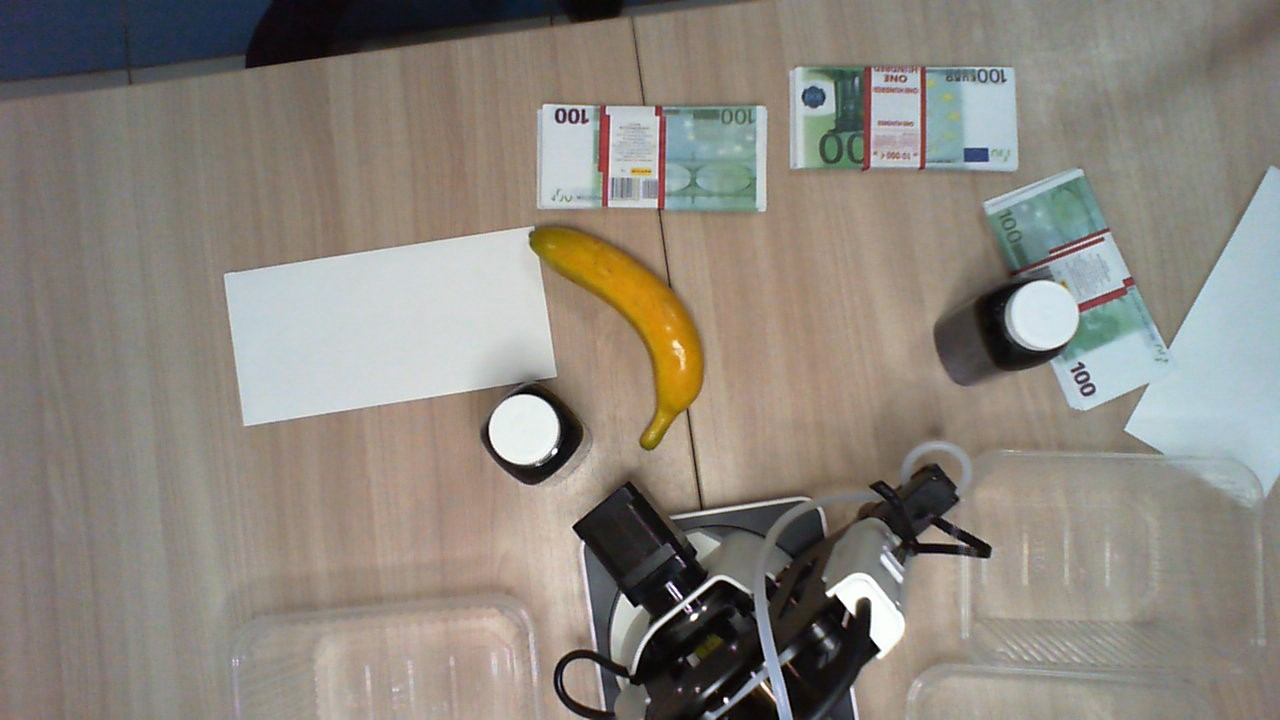banana: (530, 221, 707, 445)
bottle: (479, 385, 586, 481), (976, 278, 1080, 365)
convert: (223, 225, 555, 430), (1121, 162, 1280, 510)
money: (988, 169, 1175, 413), (538, 105, 768, 212), (790, 66, 1017, 172)
